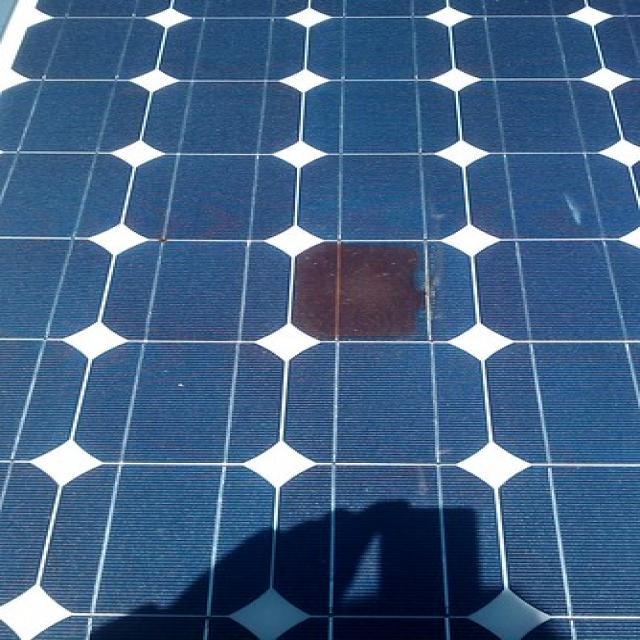shadow: (271, 240, 467, 387)
